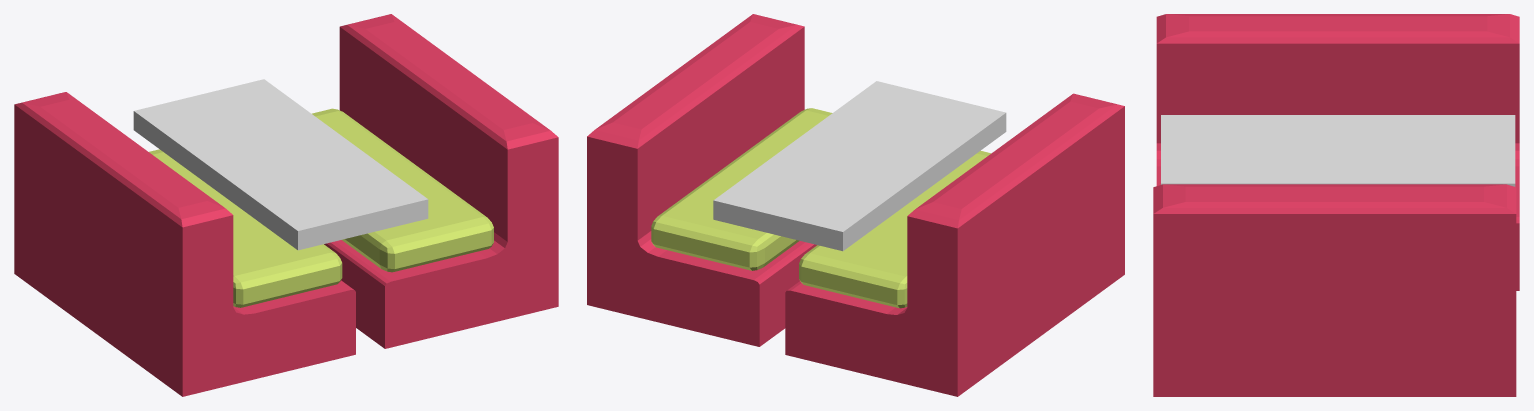
Rendered from Placements.fbx.
3 renders of one model, left to right at view 1: azimuth 30°, elevation 25°; view 2: azimuth 150°, elevation 25°; view 3: azimuth 270°, elevation 25°, orthographic. The views are drawn at different scales.
Visible parts, largest first — view 1: Cube.005, Cube.047, Cube.004, Cube.048, Cube.006; view 2: Cube.005, Cube.047, Cube.004, Cube.048, Cube.006; view 3: Cube.047, Cube.005, Cube.004.
Boxes of the visible parts, bbox=[...] form: Cube.005: bbox=[14, 92, 355, 396]; Cube.047: bbox=[324, 14, 558, 348]; Cube.004: bbox=[133, 79, 428, 250]; Cube.048: bbox=[312, 108, 493, 272]; Cube.006: bbox=[149, 149, 342, 307]; Cube.005: bbox=[785, 93, 1124, 396]; Cube.047: bbox=[587, 14, 816, 346]; Cube.004: bbox=[713, 81, 1006, 251]; Cube.048: bbox=[651, 108, 832, 270]; Cube.006: bbox=[799, 150, 990, 308]; Cube.047: bbox=[1153, 184, 1516, 396]; Cube.005: bbox=[1156, 14, 1519, 290]; Cube.004: bbox=[1161, 115, 1515, 186].
Size of the model in its own units: 574 by 257 by 451.
